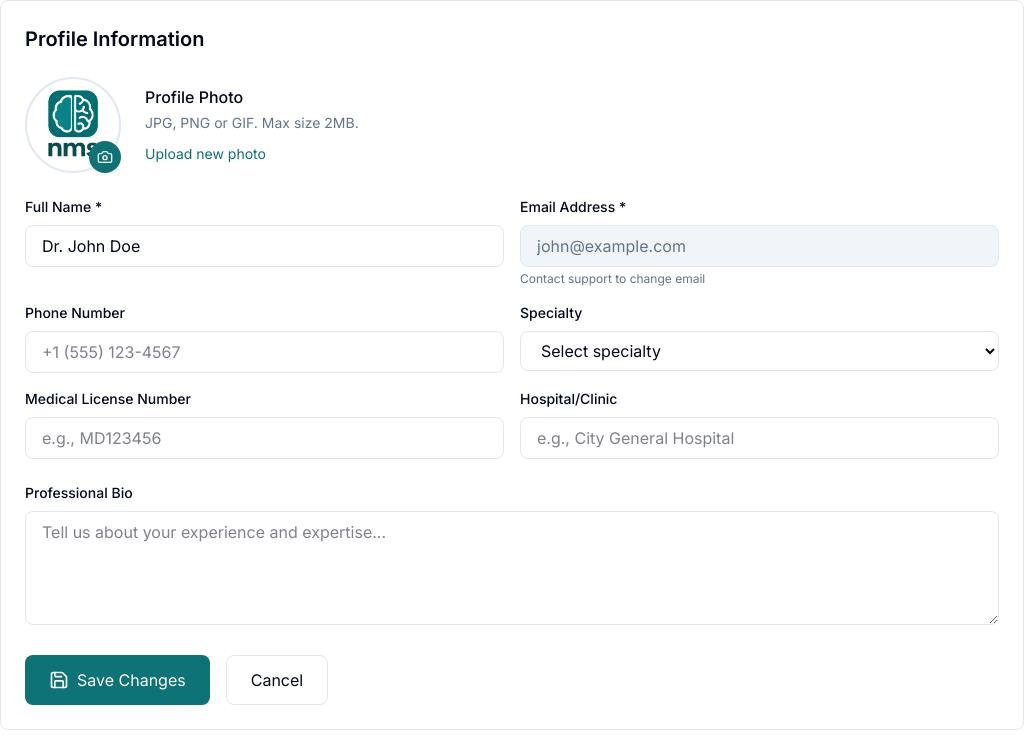
Test: ProfileSettings › should successfully submit profile updates
Expected: the button "Save Changes" is shown, top-left (25, 655), bottom-right (210, 705)
Type "+1 555-1234" into the field with placeholder "+1 (555) 123-4567" at (264, 352), box top-left (25, 331), bottom-right (504, 373)
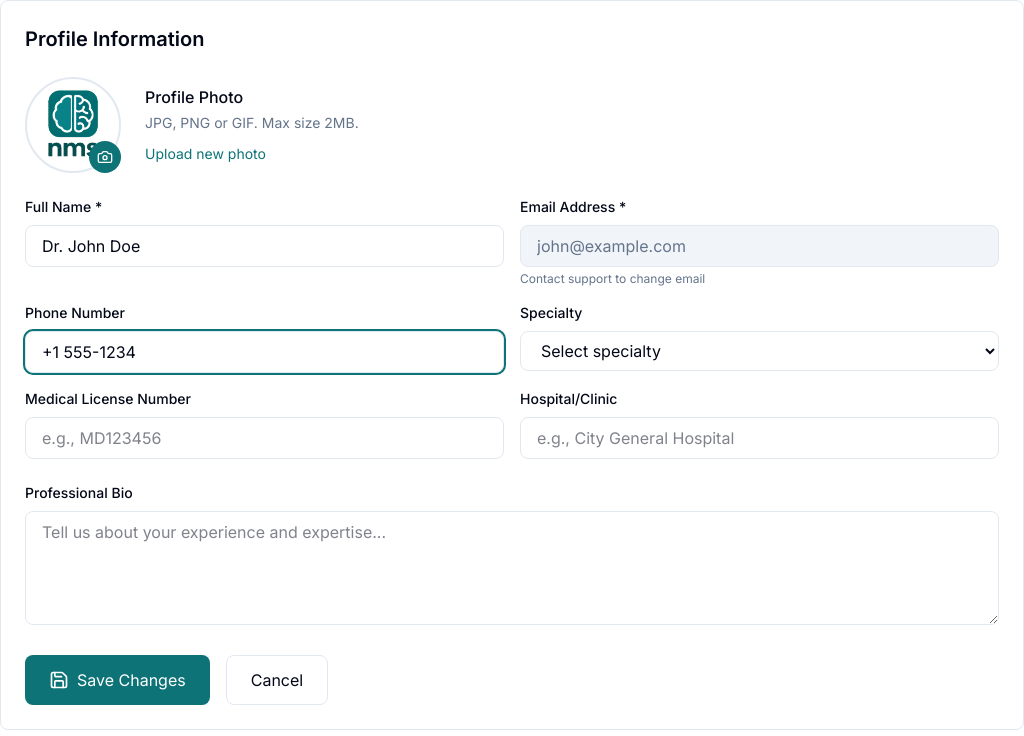
Click the button "Save Changes" at (117, 680), box top-left (25, 655), bottom-right (210, 705)
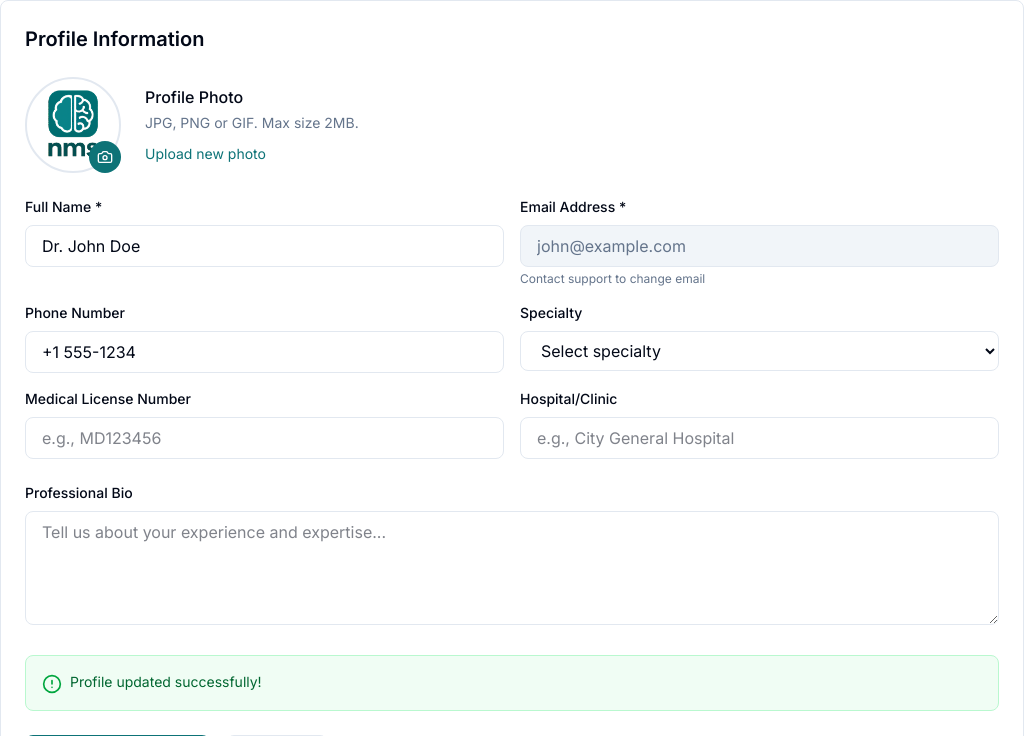
Result: the text "Profile updated successfully!" is shown at top-left (70, 672), bottom-right (262, 692)
